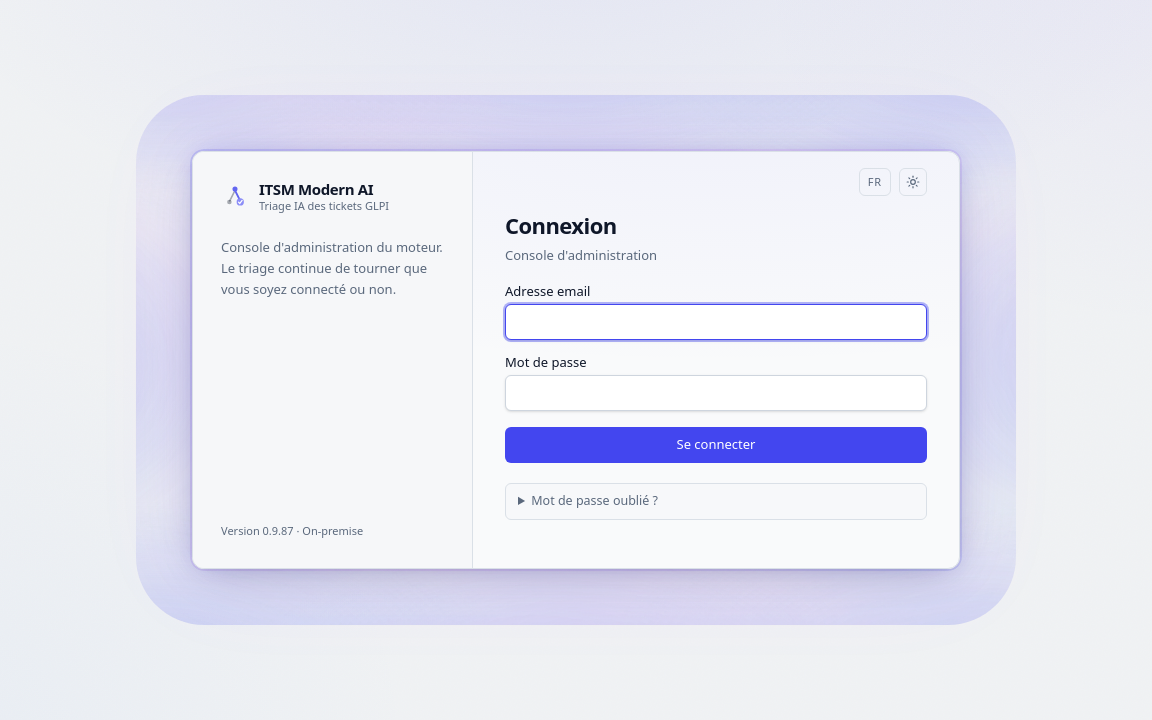
Test case: Login › n'envoie rien au moteur quand l'email est vide (une tentative brûlée pour rien)
The image size is (1152, 720).
Type "s3cretaire" into the password field labelled "Mot de passe". click: (716, 393)
box: [505,375,927,411]
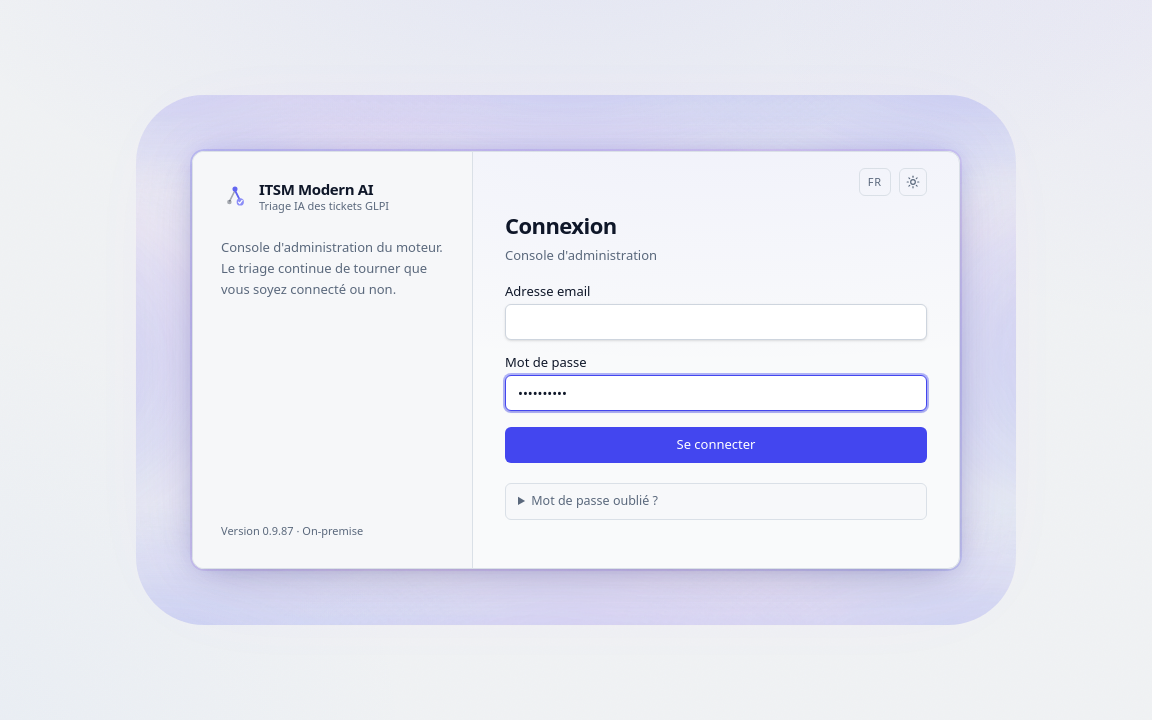
Click the button "Se connecter". click: click(716, 445)
box: [505,427,927,463]
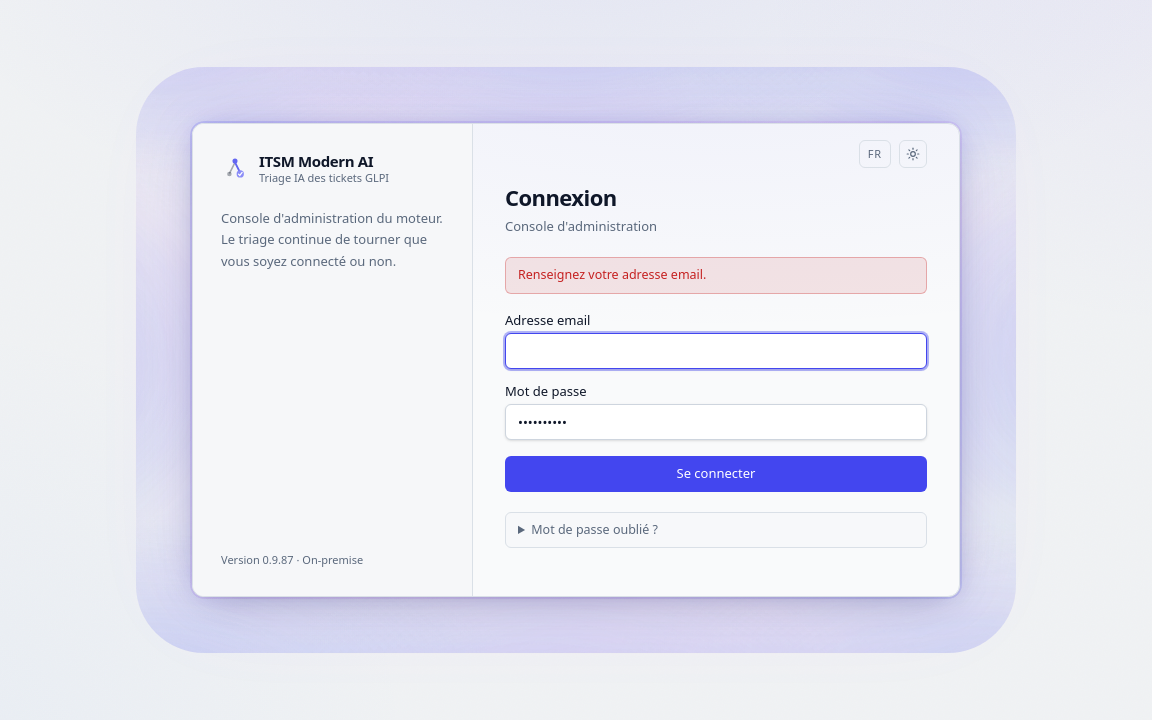
Expected: the text "Renseignez votre adresse email." is shown, [505,257,927,294]
